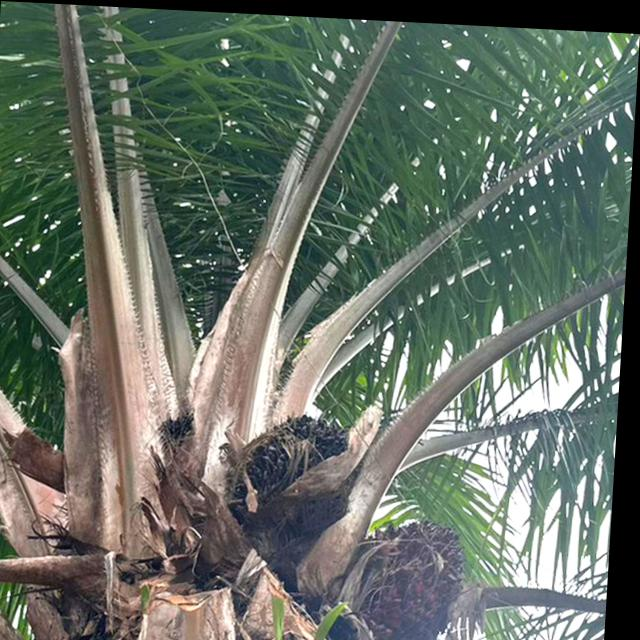unripe: (234, 403, 368, 562), (356, 507, 475, 640)
